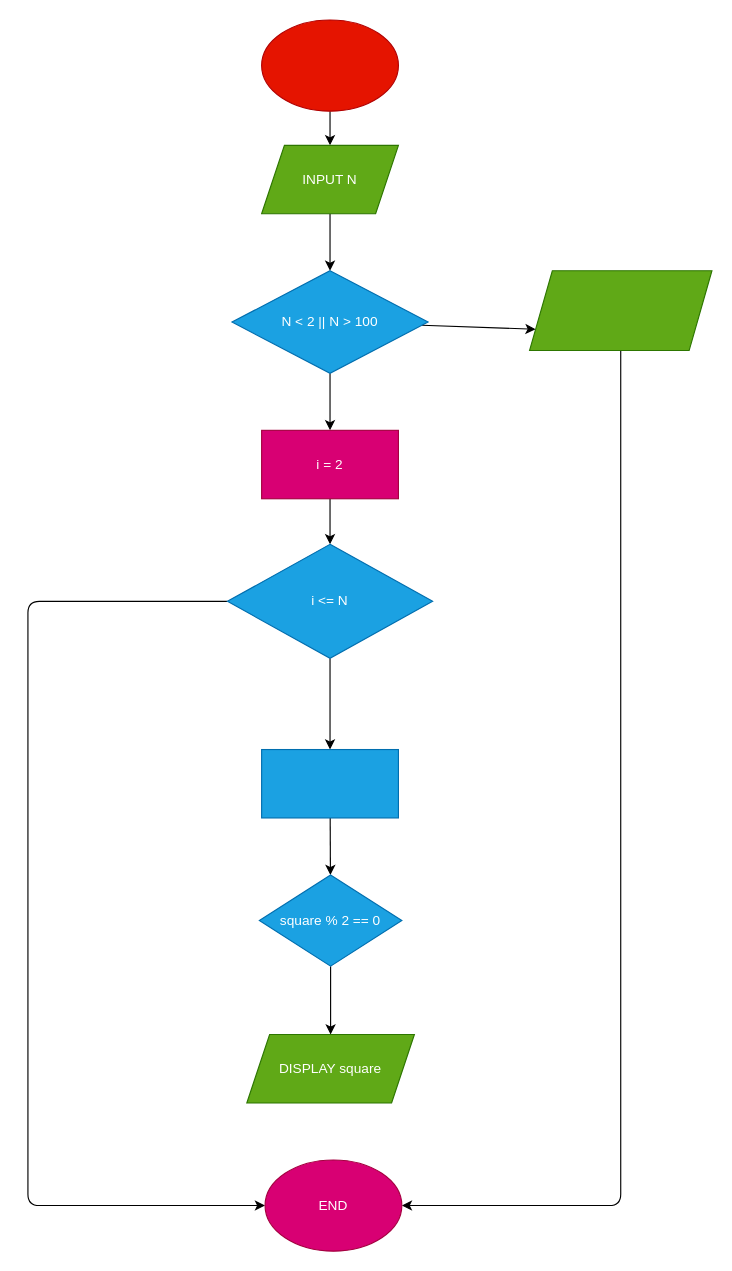
Image size: 732x1271. Some labels were removed from this diagram. Each missing label, with the centre of its shape:
BEGIN: point (329, 65)
DISPLAY "NHẬP LẠI": point (620, 310)
square = i * i: point (329, 783)
